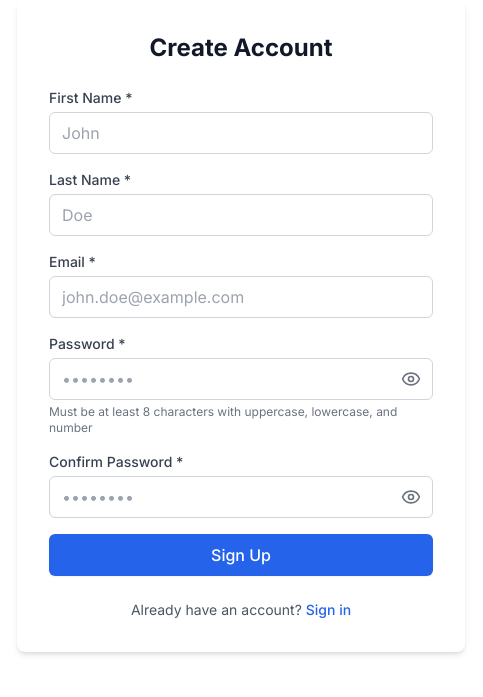
Authentication Flow Integration Tests › Sign Up Flow › should validate password confirmation
Type "Jane" into the field labelled "First Name *" at (241, 133), box [49,112,433,154]
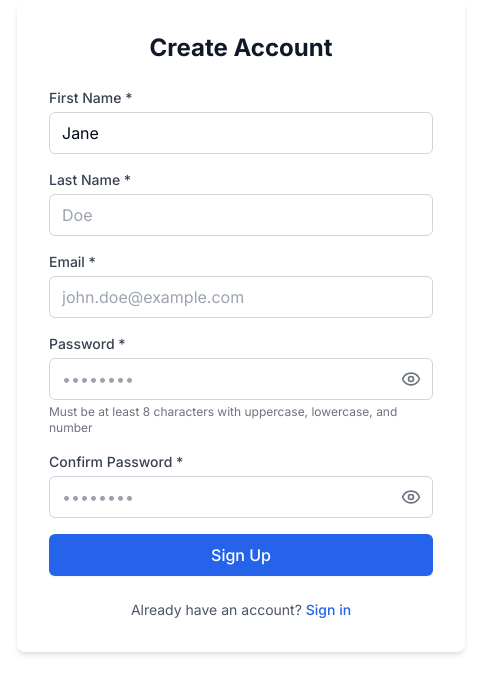
Type "Smith" into the field labelled "Last Name *" at (241, 215), box [49,194,433,236]
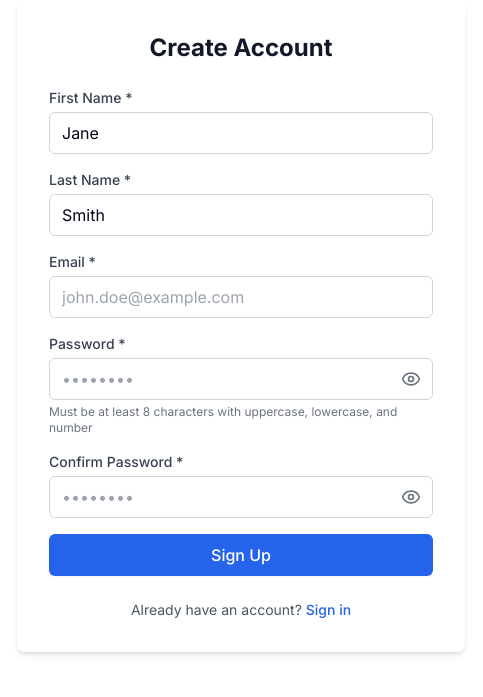
Type "test@example.com" into the field labelled "Email *" at (241, 297), box [49,276,433,318]
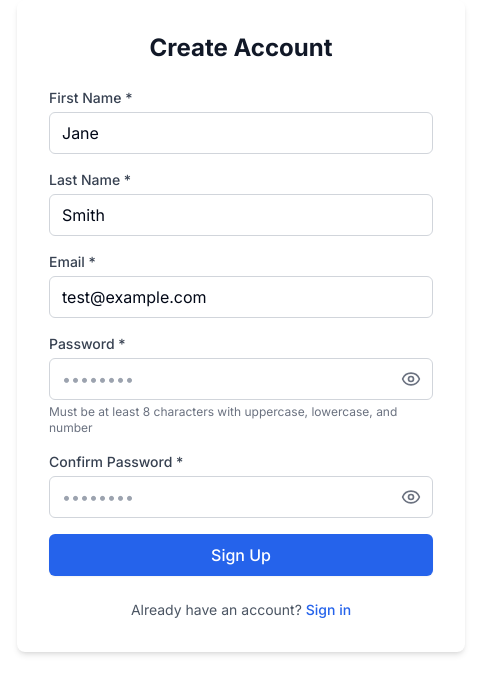
Type "Password123" into the password field labelled "Password *" at (241, 379), box [49,358,433,400]
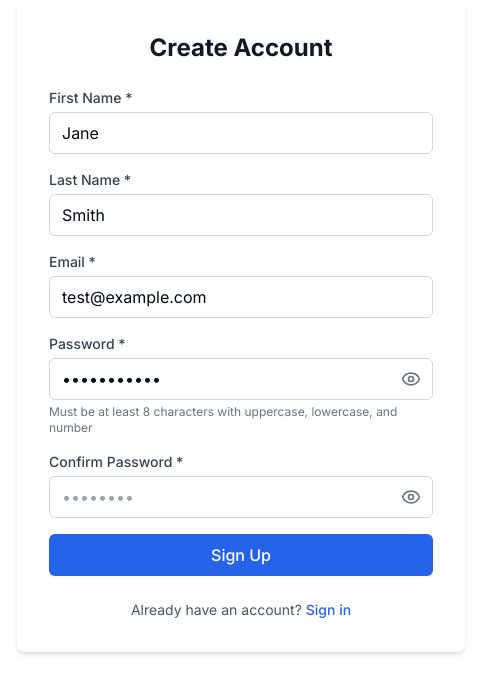
Type "DifferentPassword" into the password field labelled "Confirm Password *" at (241, 497), box [49,476,433,518]
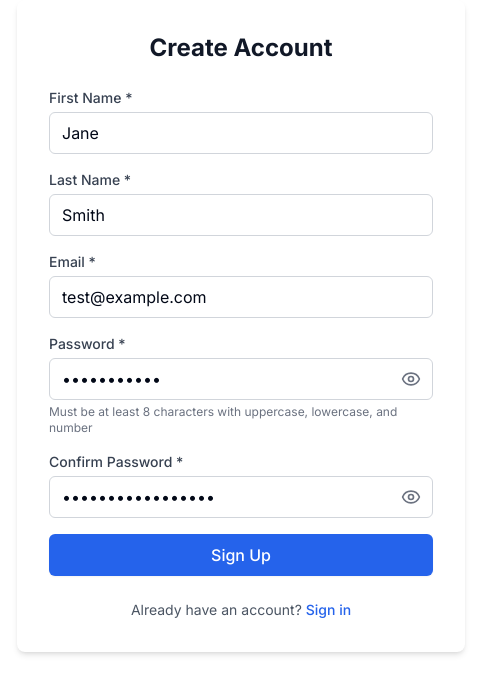
Click the button "Sign Up" at (241, 555), box [49,534,433,576]
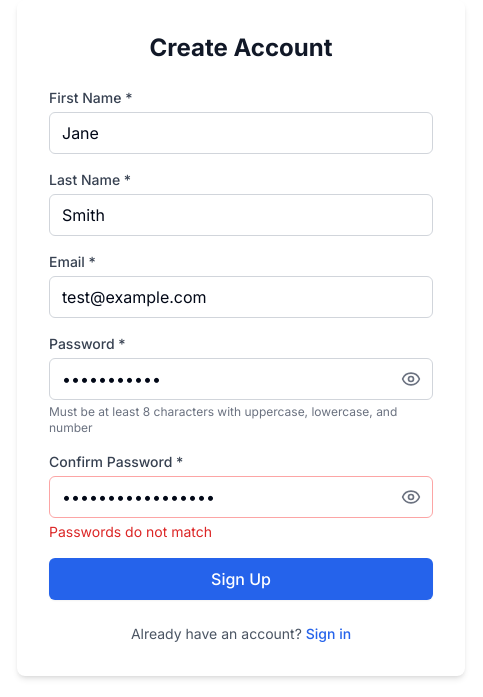
Check: the text "Passwords do not match" is shown, box [49,523,212,540]
